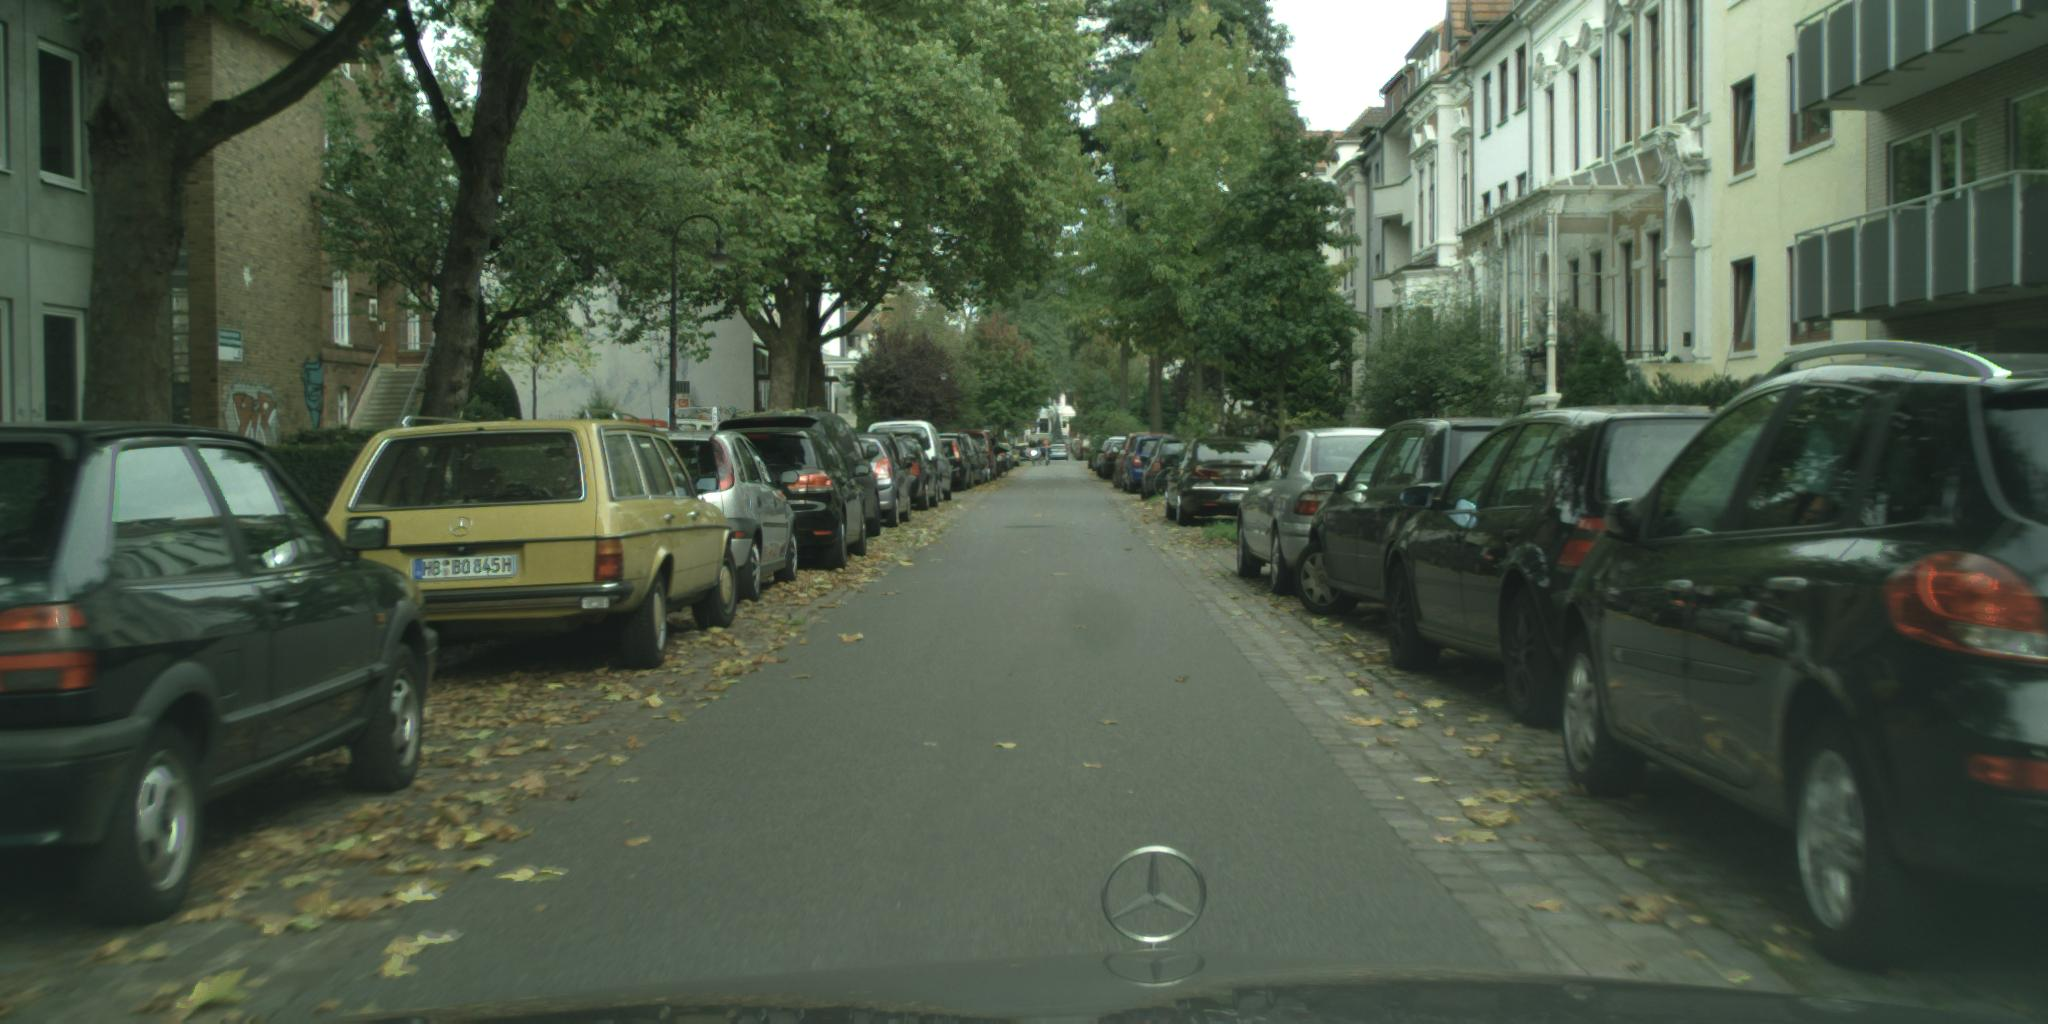bicycle: (1155, 468, 1192, 502)
car: (1562, 340, 2048, 978), (1, 422, 440, 930), (1384, 405, 1733, 733), (325, 409, 739, 670), (1294, 418, 1516, 619), (1238, 428, 1391, 598), (650, 431, 799, 603), (714, 428, 871, 571), (716, 413, 882, 539), (1161, 438, 1280, 528), (867, 421, 952, 502), (853, 434, 914, 529), (1140, 438, 1196, 505), (892, 436, 940, 512), (1113, 434, 1174, 490), (1121, 436, 1172, 496)
